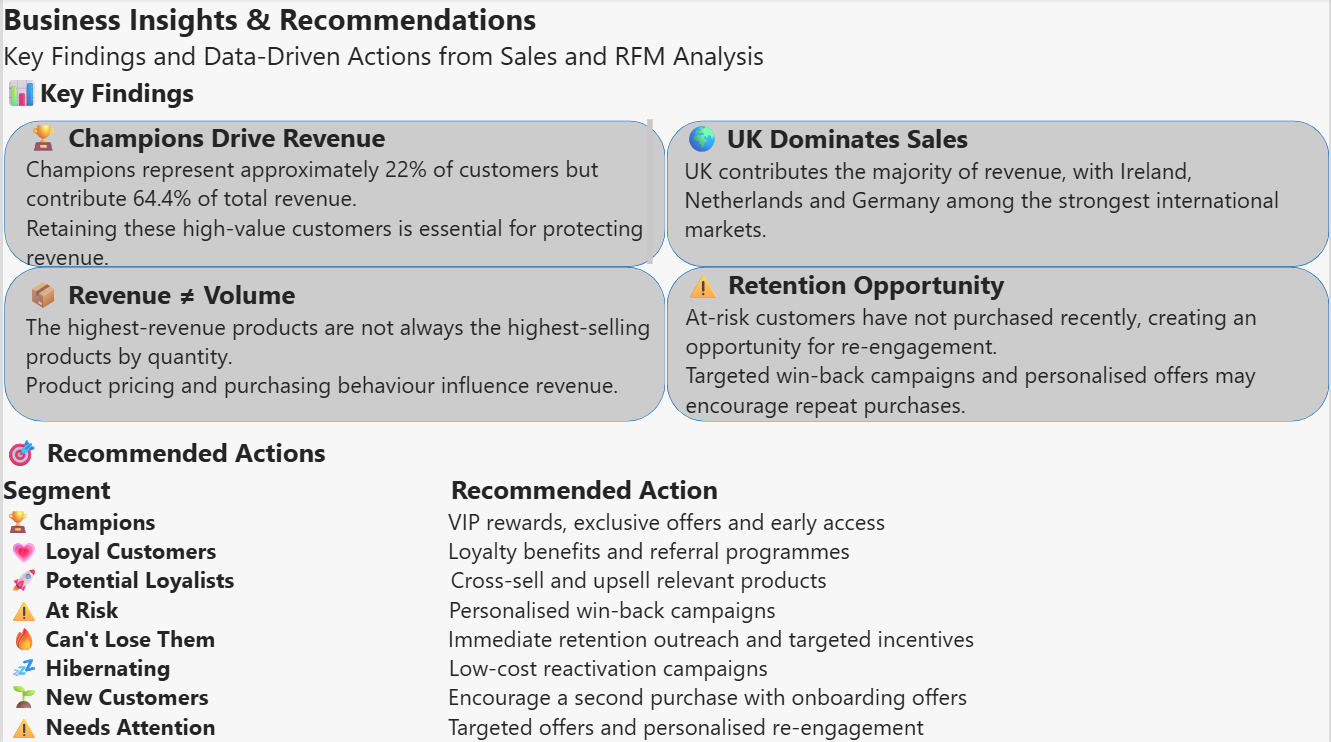

The dashboard page shown, as its layout file describes it:
{"tool":"powerbi","page":{"name":"Business Insights & Recommendations","canvas":[1920,1080],"ordinal":3},"visuals":[{"type":"textbox","box":[0,0,1920.4,111.1],"z":0},{"type":"shape","box":[2.1,177,957.1,212],"z":1},{"type":"shape","box":[961.2,177,959.2,212],"z":2},{"type":"shape","box":[2.1,389,957.1,224.4],"z":3},{"type":"shape","box":[961.2,389,959.2,224.4],"z":4},{"type":"textbox","box":[32.9,175,907.7,214.1],"z":5},{"type":"textbox","box":[985.9,177,909.8,236.7],"z":6},{"type":"textbox","box":[32.9,403.4,918,197.6],"z":7},{"type":"textbox","box":[988,389,930.4,224.4],"z":8},{"type":"textbox","box":[0,685.4,1918.4,395.2],"z":9},{"type":"textbox","box":[2.1,631.9,1918.4,53.5],"z":11},{"type":"textbox","box":[2.1,111.1,1916.3,65.9],"z":12}]}

Visuals, with their boxes in screenshot pixels (x1, y1, x2, y2), scaled from the page's 1920x1080 canvas onto the 1331x742 screenshot:
textbox: [x1=0, y1=0, x2=1330, y2=76]
shape: [x1=1, y1=122, x2=665, y2=267]
shape: [x1=666, y1=122, x2=1330, y2=267]
shape: [x1=1, y1=267, x2=665, y2=421]
shape: [x1=666, y1=267, x2=1330, y2=421]
textbox: [x1=23, y1=120, x2=652, y2=267]
textbox: [x1=683, y1=122, x2=1314, y2=284]
textbox: [x1=23, y1=277, x2=659, y2=413]
textbox: [x1=685, y1=267, x2=1330, y2=421]
textbox: [x1=0, y1=471, x2=1330, y2=741]
textbox: [x1=1, y1=434, x2=1330, y2=471]
textbox: [x1=1, y1=76, x2=1330, y2=122]
